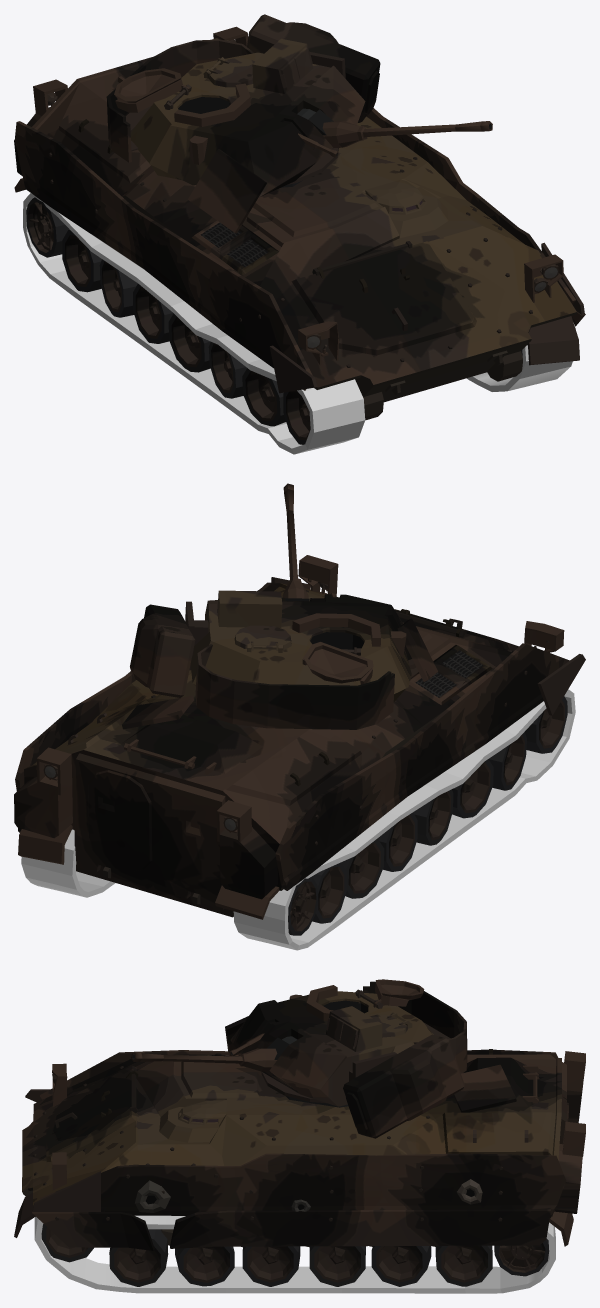
The model's file is SM_Veh_Light_Tank_01_Destroyed.fbx.
3 views of the same model, one above another, from view 1: azimuth 30°, elevation 25°; view 2: azimuth 150°, elevation 25°; view 3: azimuth 270°, elevation 25° (orthographic). The views are drawn at different scales.
Parts seen in each view (by area): view 1: SM_Veh_Light_Tank_01_Destroyed; view 2: SM_Veh_Light_Tank_01_Destroyed; view 3: SM_Veh_Light_Tank_01_Destroyed.
Boxes of the visible parts, x1,y1,x2,y2 form: SM_Veh_Light_Tank_01_Destroyed: [14, 14, 585, 454]; SM_Veh_Light_Tank_01_Destroyed: [14, 483, 585, 950]; SM_Veh_Light_Tank_01_Destroyed: [14, 979, 585, 1293].
Size of the model in its own units: 343 by 289 by 657.
